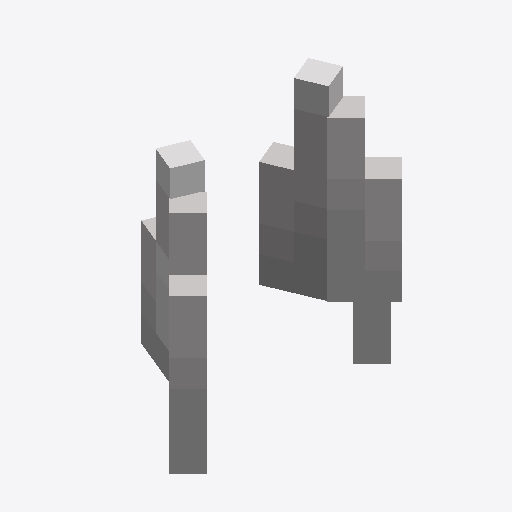
Isometric view (azimuth 45°, elevation 35.3°) of a Minecraft model made of 12 cuboids, textured from the same repository.
Parts seen in each view (by area): element 9, element 10, element 2, element 1, element 4, element 7, element 11, element 12, element 6, element 5, element 8, element 3.
Part boxes in pixels (left/top/right/bottom): element 9: left=327, top=157, right=401, bottom=301; element 10: left=259, top=142, right=326, bottom=300; element 2: left=169, top=275, right=206, bottom=418; element 1: left=141, top=217, right=168, bottom=380; element 4: left=169, top=192, right=206, bottom=274; element 7: left=327, top=96, right=364, bottom=178; element 11: left=353, top=302, right=390, bottom=363; element 12: left=294, top=58, right=342, bottom=116; element 6: left=156, top=140, right=204, bottom=198; element 5: left=169, top=419, right=206, bottom=473; element 8: left=294, top=109, right=326, bottom=177; element 3: left=156, top=180, right=204, bottom=258.
Size of the model in its own units: 8.91 by 9 by 3.78.